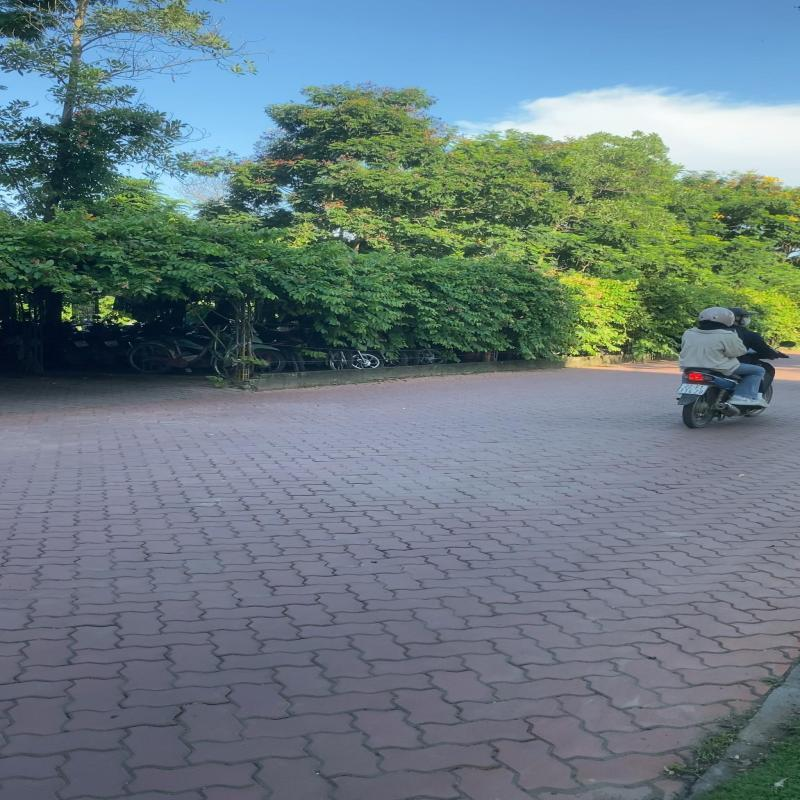helmet: (698, 306, 736, 330), (726, 306, 756, 328)
licenseplate: (677, 383, 709, 396)
motorcyclist: (675, 305, 792, 429)
